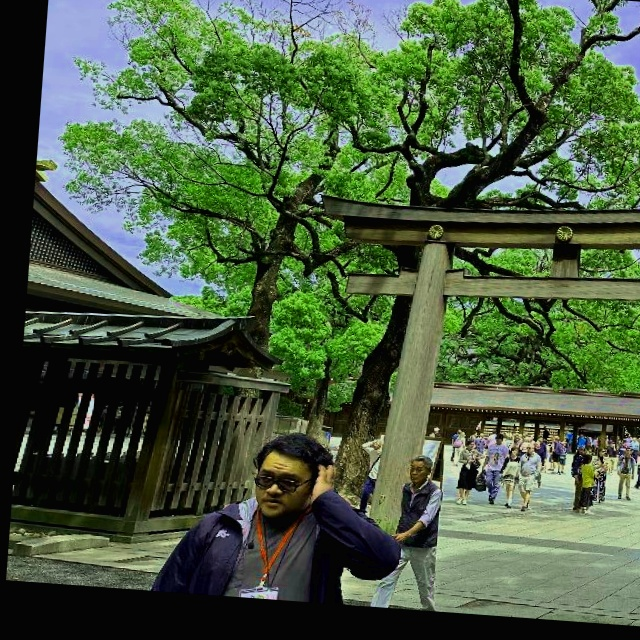Sin_Casco_Mascarrilla: (245, 428, 336, 521)
